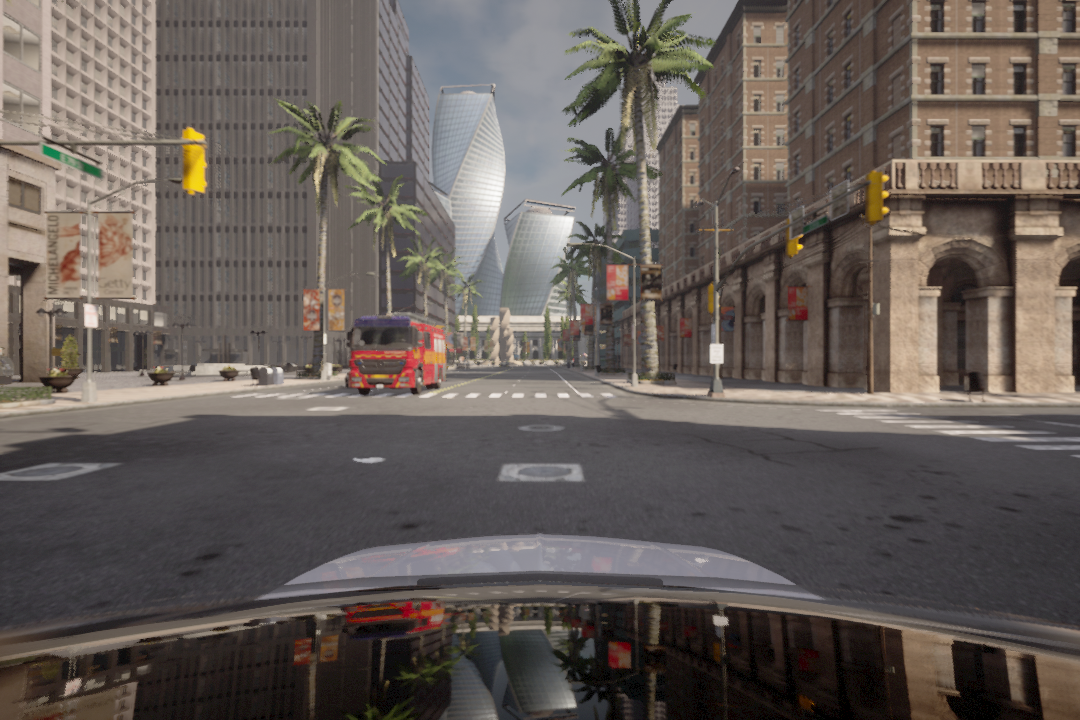walkside: (227, 388, 621, 404)
